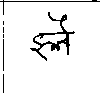ai_matra: (48, 12, 72, 32)
